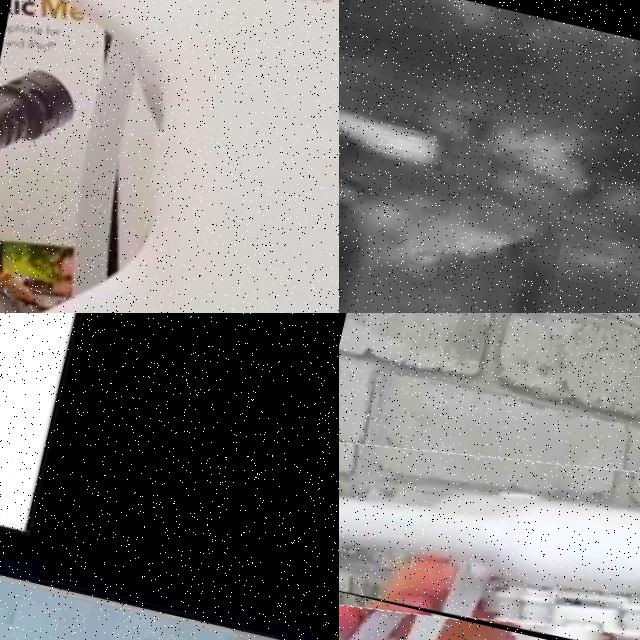drone: (0, 0, 339, 313), (339, 390, 640, 640)
